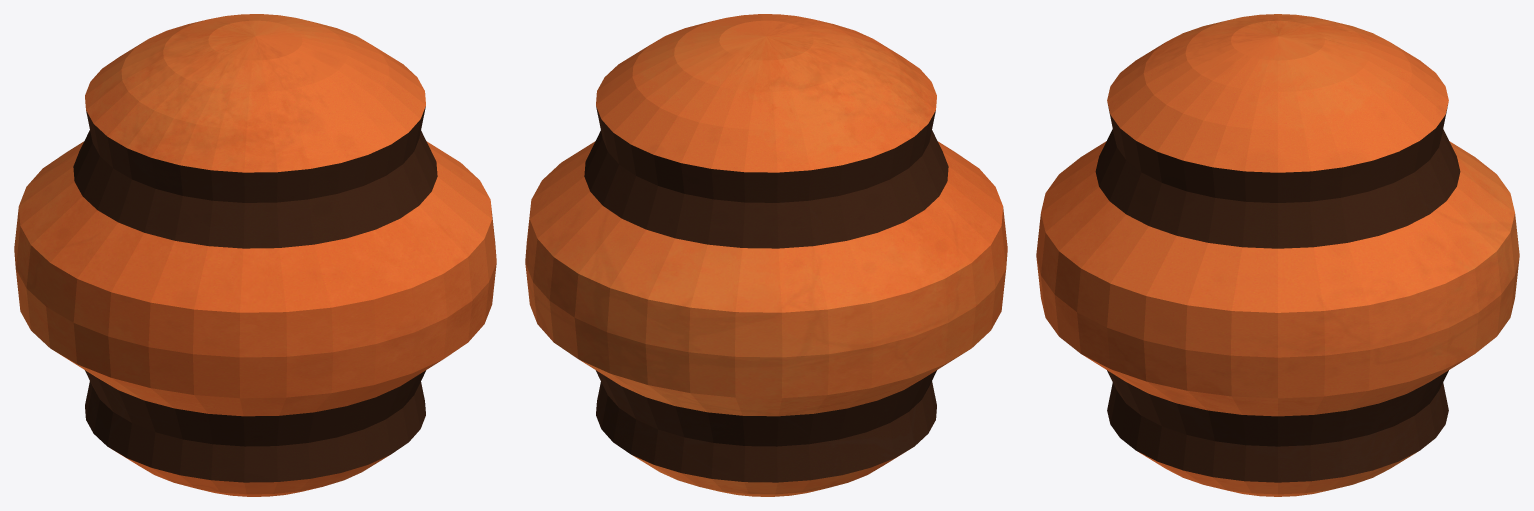
Rendered from GrenadeProjectile.fbx.
3 views of the same model, side by side, from view 1: azimuth 30°, elevation 25°; view 2: azimuth 150°, elevation 25°; view 3: azimuth 270°, elevation 25° (orthographic).
Visible parts, largest first — view 1: Sphere, Sphere.001; view 2: Sphere, Sphere.001; view 3: Sphere, Sphere.001.
Part boxes in pixels (x1=…): Sphere: x1=14, y1=14, x2=496, y2=496; Sphere.001: x1=73, y1=106, x2=437, y2=482; Sphere: x1=525, y1=14, x2=1007, y2=496; Sphere.001: x1=584, y1=106, x2=948, y2=482; Sphere: x1=1036, y1=14, x2=1519, y2=496; Sphere.001: x1=1095, y1=105, x2=1460, y2=482.
Bounding box in the file's own units: 200 × 200 × 200.
